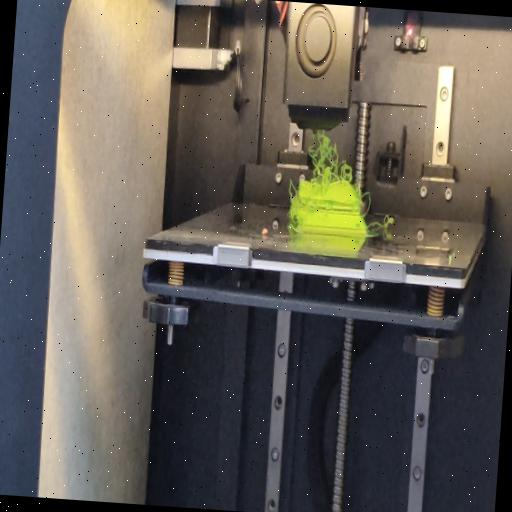spaghetti: (306, 128, 358, 190), (366, 214, 396, 234), (362, 188, 372, 214), (286, 222, 302, 238)
